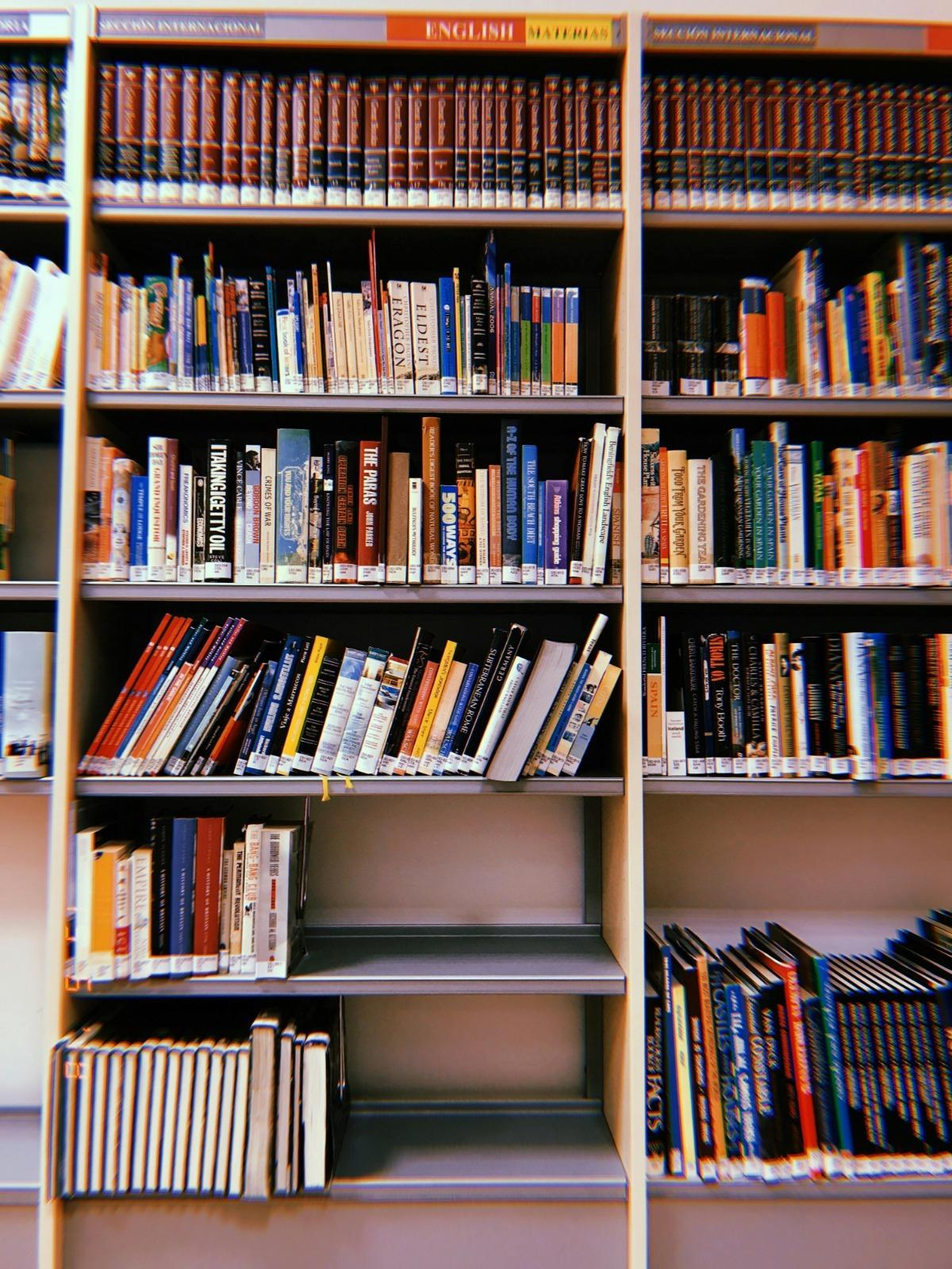book: (663, 932, 709, 1183), (166, 649, 249, 780), (454, 624, 525, 776), (810, 960, 853, 1174), (754, 972, 798, 1180), (528, 644, 595, 780), (377, 629, 439, 775), (781, 961, 819, 1182), (767, 243, 822, 394), (57, 1024, 104, 1197), (706, 957, 742, 1180), (1, 634, 53, 780), (645, 924, 673, 1181), (280, 636, 332, 774), (312, 648, 367, 777), (257, 824, 302, 978), (353, 650, 405, 776), (21, 258, 69, 390), (417, 660, 469, 777), (245, 1014, 278, 1197), (900, 447, 943, 579), (92, 837, 131, 981), (589, 424, 623, 588), (893, 235, 928, 389), (841, 635, 877, 779), (299, 1025, 329, 1192), (276, 429, 308, 582), (193, 814, 224, 971), (73, 826, 102, 982), (168, 816, 197, 970), (200, 1042, 229, 1196), (920, 240, 950, 387), (204, 438, 234, 583), (170, 1044, 198, 1195), (832, 447, 863, 583), (904, 637, 934, 774), (567, 433, 594, 584), (226, 1038, 252, 1194), (863, 442, 893, 576), (866, 637, 893, 780), (824, 637, 851, 777), (886, 639, 913, 779), (861, 271, 891, 394), (132, 1041, 156, 1194), (240, 823, 264, 975), (275, 1021, 296, 1193), (143, 274, 174, 390), (116, 63, 143, 196), (842, 282, 873, 397), (357, 441, 382, 583), (742, 632, 767, 774), (923, 634, 948, 776), (706, 632, 731, 772), (788, 637, 813, 776), (884, 425, 907, 574), (783, 446, 808, 583), (81, 437, 106, 574), (6, 55, 31, 190), (750, 442, 774, 582), (385, 453, 410, 585), (454, 439, 477, 581), (420, 418, 440, 580), (666, 451, 690, 586), (130, 845, 154, 980), (150, 815, 172, 962), (681, 634, 704, 774), (158, 66, 182, 200), (501, 423, 521, 583), (688, 458, 713, 586), (334, 441, 357, 580), (410, 281, 439, 391), (726, 632, 748, 774), (769, 422, 789, 578), (665, 628, 686, 776), (642, 621, 662, 774), (26, 55, 49, 188), (773, 635, 795, 774), (640, 430, 660, 582), (761, 639, 783, 775), (95, 64, 117, 199), (140, 64, 162, 197), (84, 255, 106, 388), (429, 76, 451, 205), (715, 453, 737, 582), (247, 277, 272, 390), (364, 77, 386, 205), (669, 76, 690, 210), (387, 281, 412, 392), (200, 68, 221, 200), (180, 67, 201, 198), (543, 479, 568, 589), (650, 77, 671, 206), (785, 84, 807, 207), (243, 441, 262, 582), (407, 77, 428, 204), (387, 78, 408, 205), (520, 445, 539, 585), (48, 55, 67, 194), (221, 70, 241, 200), (827, 295, 853, 395), (697, 632, 715, 773), (727, 79, 747, 205), (542, 78, 561, 208), (241, 72, 260, 201), (163, 437, 180, 580), (228, 840, 246, 972), (810, 442, 827, 581), (469, 275, 489, 392), (766, 292, 788, 397), (308, 73, 326, 201), (275, 76, 293, 204), (573, 77, 591, 205), (559, 77, 577, 205), (326, 75, 344, 201), (437, 278, 457, 391), (260, 447, 276, 582), (526, 78, 543, 204), (308, 449, 324, 581), (452, 77, 469, 199), (605, 80, 621, 209), (128, 476, 147, 584), (321, 445, 336, 579), (495, 79, 511, 204), (738, 451, 753, 582), (439, 486, 458, 585), (474, 469, 490, 582), (177, 467, 192, 582), (407, 478, 423, 585), (488, 465, 502, 584), (658, 448, 670, 586), (564, 288, 579, 395), (550, 287, 565, 394), (193, 474, 207, 581), (540, 289, 553, 396), (519, 289, 532, 394), (503, 265, 513, 392)
